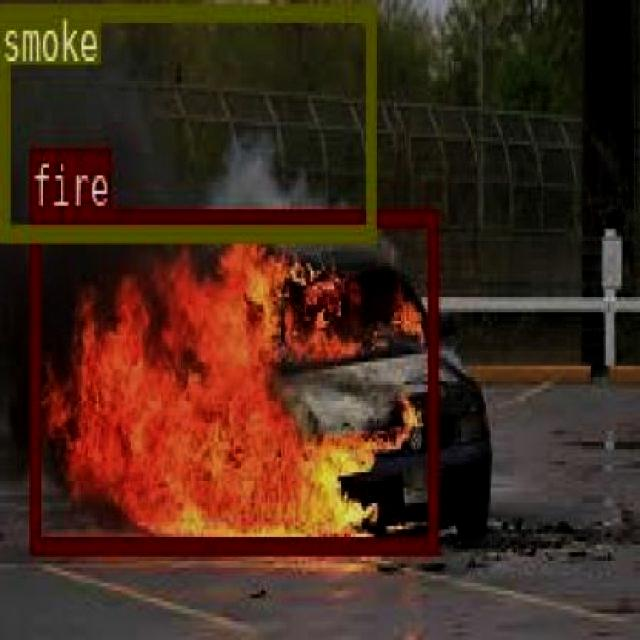fire: (29, 207, 436, 550)
smoke: (0, 1, 372, 238)
